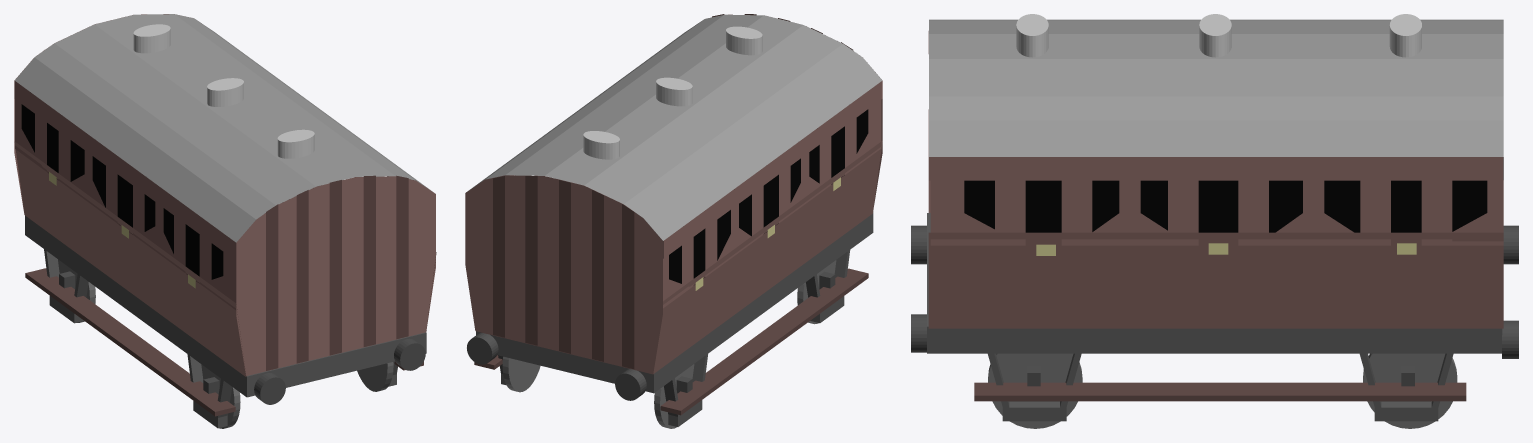
File: lbscr-4wheel-20ft-third-rescaled.dae
The picture shows the model from 3 angles, left to right: view 1: azimuth 30°, elevation 25°; view 2: azimuth 150°, elevation 25°; view 3: azimuth 270°, elevation 25°; orthographic projection. The views are drawn at different scales.
Visible parts, largest first — view 1: Plane_083, Plane_084, Plane_152, Plane_001, Plane_002, Cube_007, Plane_142, Plane_128, Plane_041, Plane_016, Plane_014, Plane_017 (+19 smaller); view 2: Plane_083, Plane_085, Plane_152, Plane_001, Plane_041, Cube_007, Plane_142, Plane_128, Plane_011, Plane_003, Plane_009, Plane_004 (+19 smaller); view 3: Plane_001, Plane_010, Plane_086, Plane_006, Plane_083, Cube_008, Plane_002, Plane_041, Plane_019, Cylinder_006, Cylinder_001, Plane_176 (+17 smaller).
Part boxes in pixels (x1,y1,x2,y2): Plane_083: [15, 19, 334, 242]; Plane_084: [236, 176, 435, 375]; Plane_152: [14, 141, 246, 376]; Plane_001: [114, 14, 432, 191]; Plane_002: [161, 315, 426, 397]; Cube_007: [25, 268, 235, 416]; Plane_142: [21, 104, 223, 282]; Plane_128: [14, 81, 226, 252]; Plane_041: [25, 215, 255, 334]; Plane_016: [329, 180, 341, 355]; Plane_014: [363, 175, 375, 346]; Plane_017: [296, 190, 308, 363]; Plane_083: [564, 20, 882, 240]; Plane_085: [465, 175, 662, 374]; Plane_152: [653, 141, 882, 373]; Plane_001: [468, 14, 783, 190]; Plane_041: [476, 276, 788, 393]; Cube_007: [660, 268, 868, 415]; Plane_142: [663, 109, 868, 283]; Plane_128: [663, 88, 872, 258]; Plane_011: [525, 176, 537, 345]; Plane_003: [622, 204, 634, 369]; Plane_009: [559, 180, 570, 353]; Plane_004: [592, 190, 603, 361]; Plane_001: [929, 46, 1503, 156]; Plane_010: [928, 232, 1503, 328]; Plane_086: [964, 157, 1503, 232]; Plane_006: [928, 157, 1503, 180]; Plane_083: [929, 19, 1503, 46]; Cube_008: [974, 382, 1466, 401]; Plane_002: [927, 213, 1279, 353]; Plane_041: [1279, 328, 1502, 353]; Plane_019: [930, 180, 1024, 245]; Cylinder_006: [1363, 353, 1457, 428]; Cylinder_001: [988, 353, 1082, 428]; Plane_176: [1258, 180, 1373, 245].
Size of the model in its own units: 2.09 by 4.07 by 2.61.
